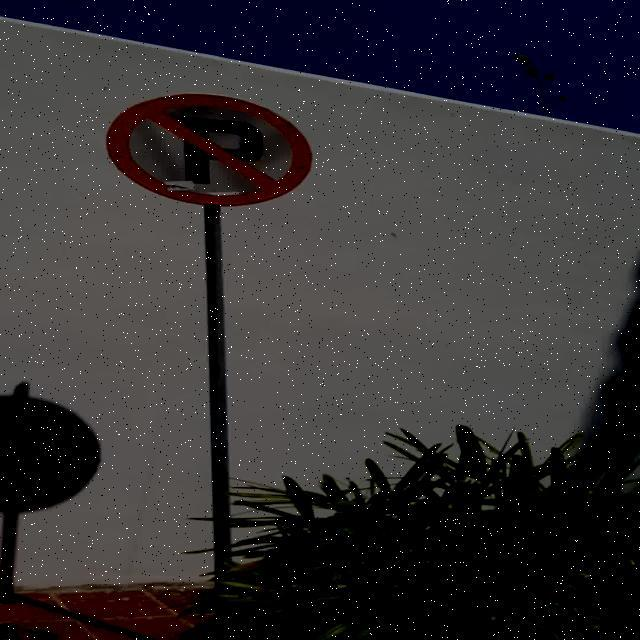Dilarang Parkir: (105, 94, 314, 206)
